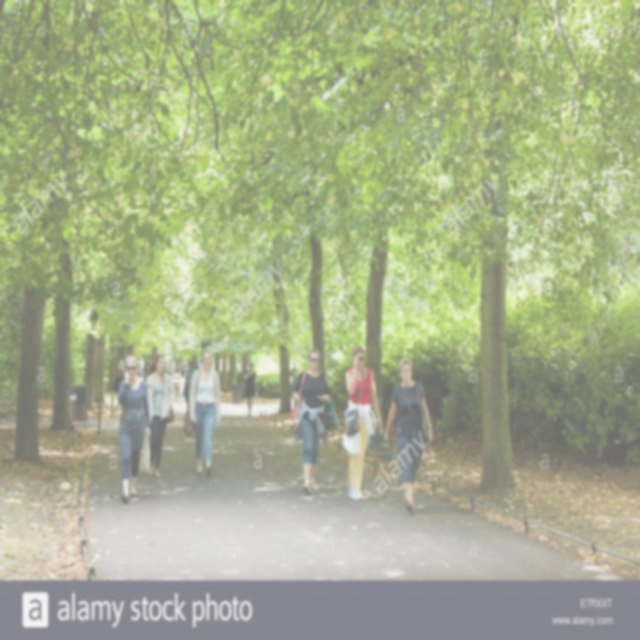pessoa: (382, 354, 434, 516), (341, 343, 385, 503), (290, 348, 332, 495), (114, 354, 152, 504), (187, 349, 222, 476), (145, 354, 176, 478), (182, 354, 200, 410), (243, 362, 258, 418), (114, 344, 136, 381), (145, 346, 159, 379), (177, 374, 186, 404), (290, 361, 300, 385), (143, 358, 151, 382), (166, 357, 175, 377), (180, 359, 188, 377), (196, 357, 206, 371), (140, 355, 146, 377), (170, 358, 177, 376)
